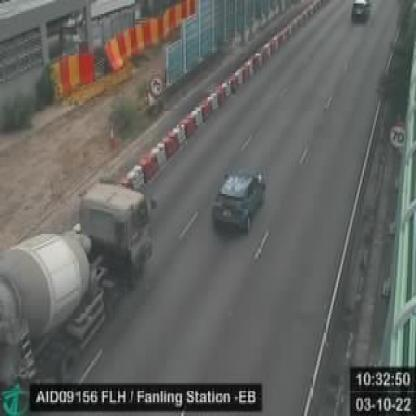Car: (212, 172, 262, 228), (352, 0, 370, 23)
Truck: (0, 184, 146, 381)
